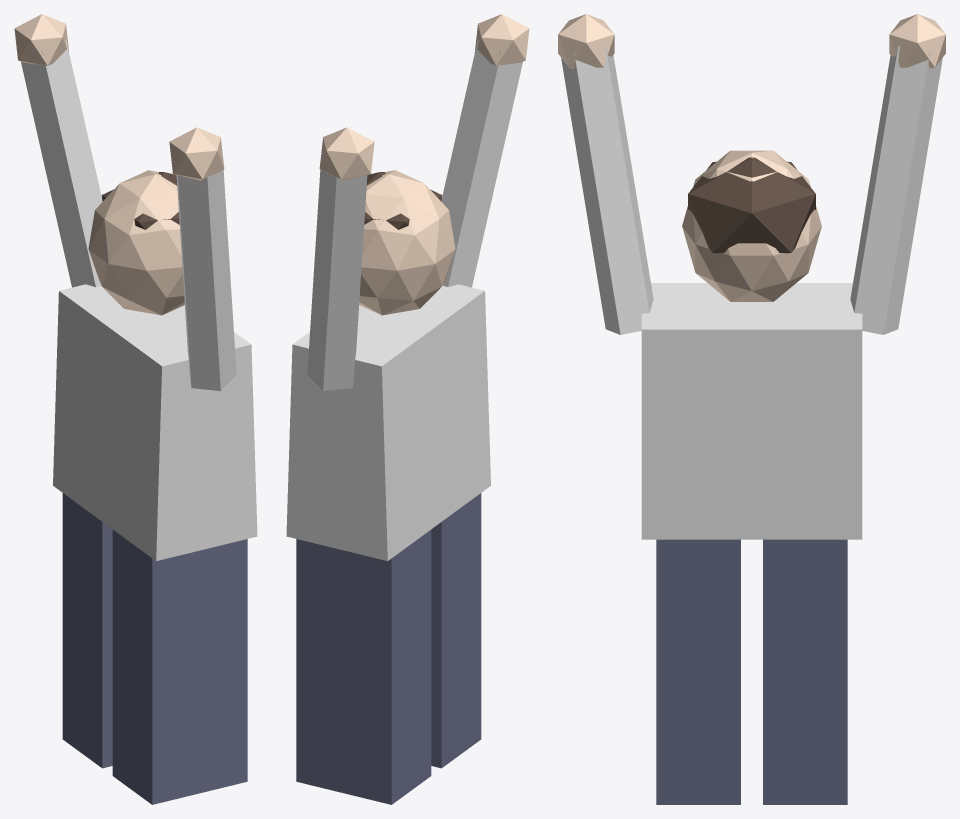
Rendered from Race_fan.fbx.
The picture shows the model from 3 angles, left to right: view 1: azimuth 30°, elevation 25°; view 2: azimuth 150°, elevation 25°; view 3: azimuth 270°, elevation 25°; orthographic projection. The views are drawn at different scales.
Visible parts, largest first — view 1: Race_fan; view 2: Race_fan; view 3: Race_fan.
Boxes of the visible parts, bbox=[...] form: Race_fan: bbox=[14, 14, 257, 804]; Race_fan: bbox=[286, 14, 529, 804]; Race_fan: bbox=[558, 14, 945, 804].
Size of the model in its own units: 0.413 by 2.24 by 1.05.
